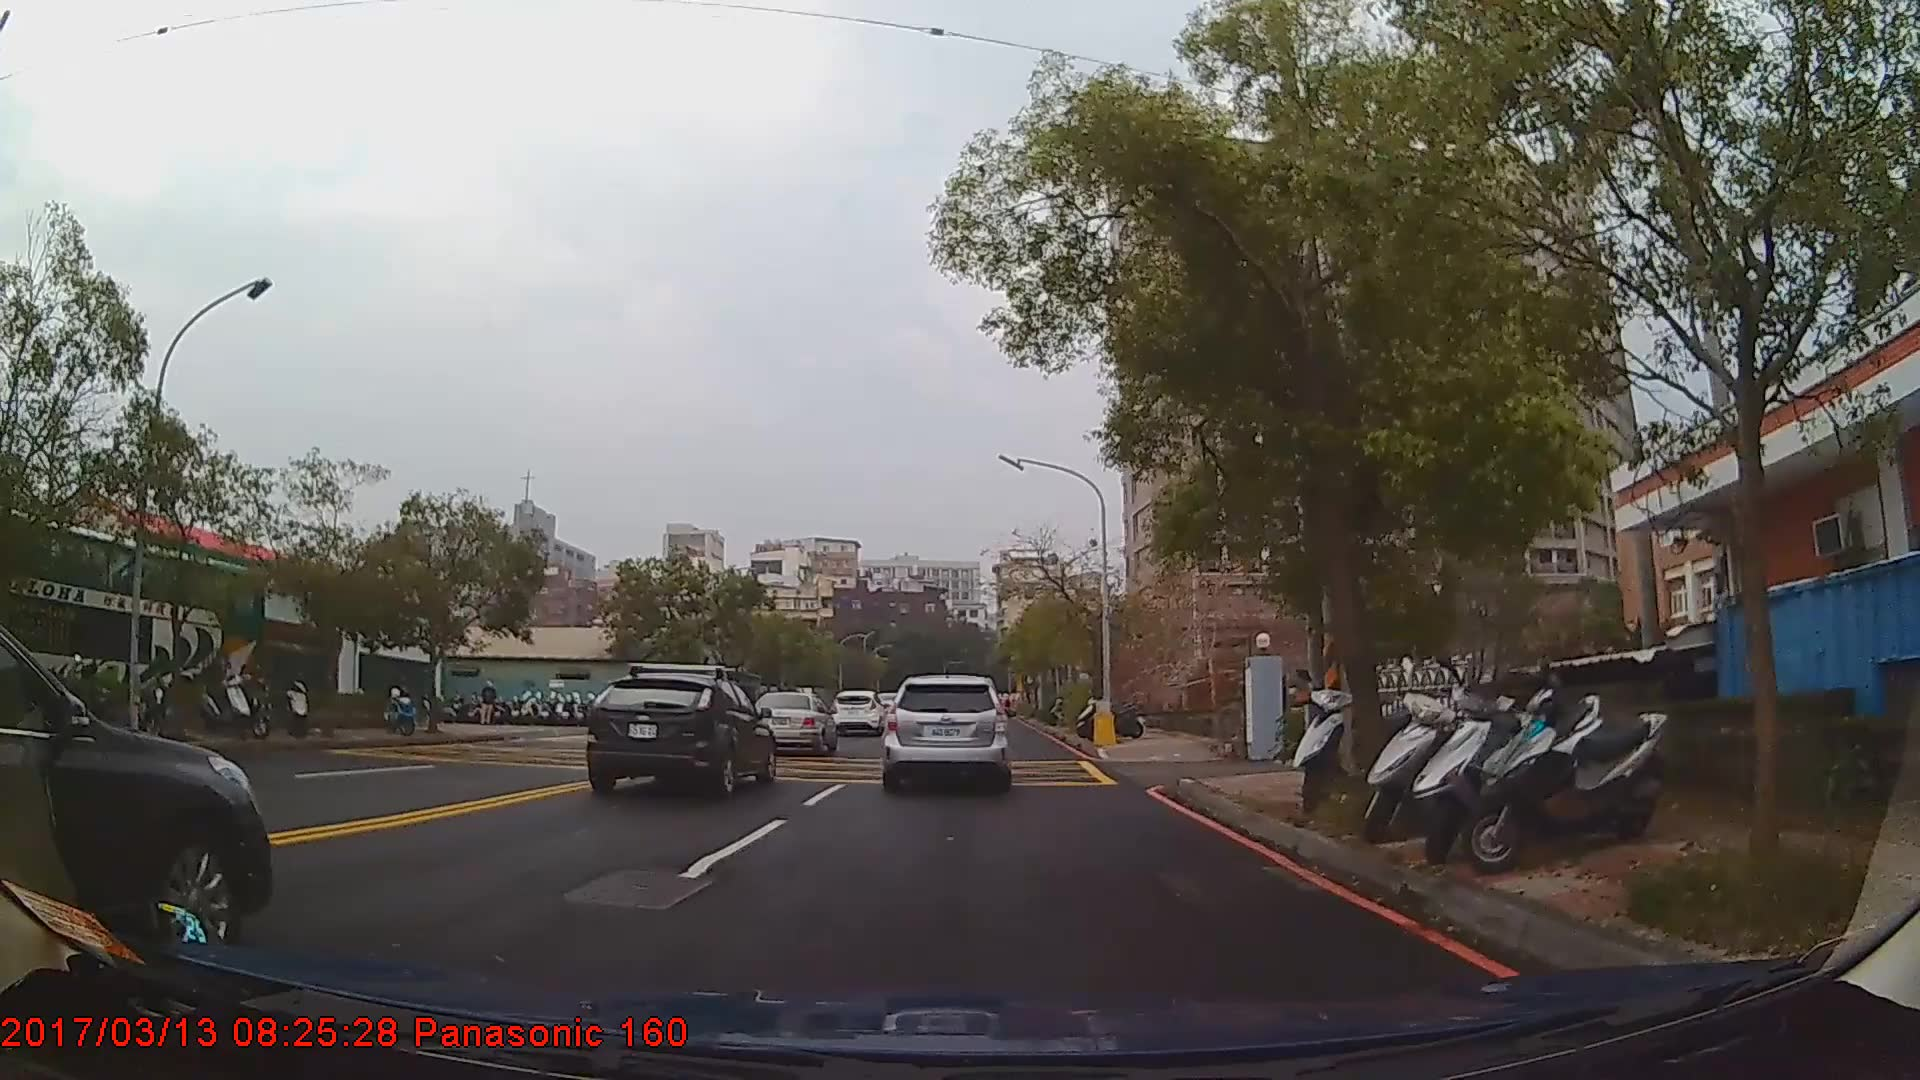vehicle: (0, 615, 272, 955), (0, 498, 261, 735), (582, 669, 774, 796), (884, 674, 1007, 789), (749, 687, 836, 753), (829, 687, 887, 733)
